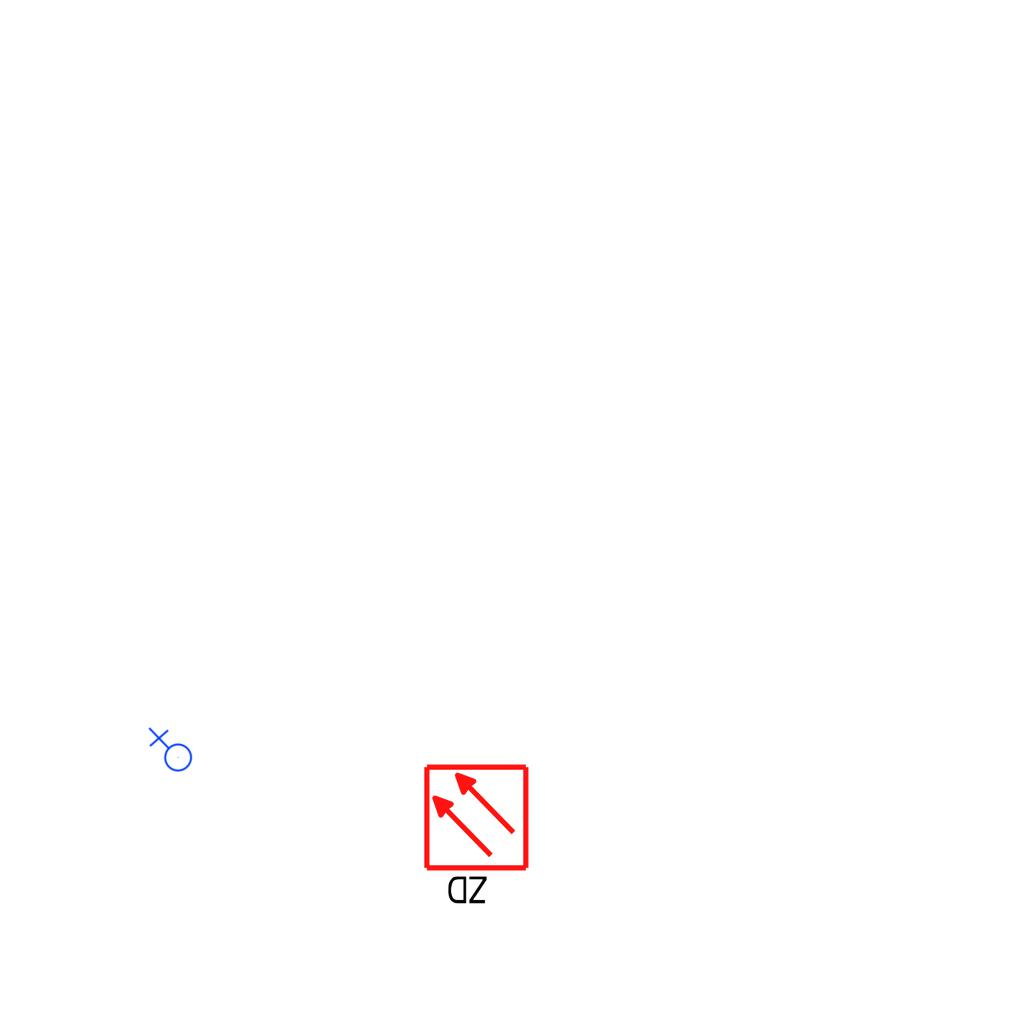Elektroanschluss_allgemein_230V_Geraeteanschlussdose_230V: (146, 727, 193, 776)
ZD_Melder_in_Zwischendecke_mit_Revisionsoeffnung_mind_40_x_40_cm: (421, 762, 535, 911)
